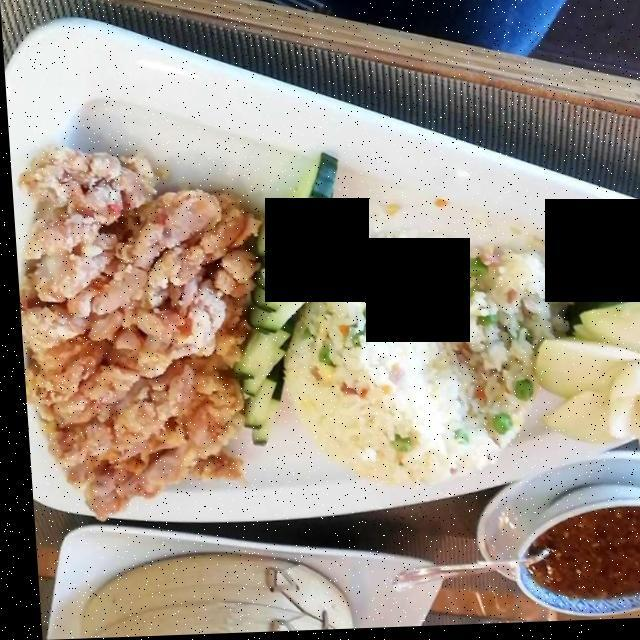breadcrumbs: (31, 130, 217, 478)
chicken: (27, 136, 254, 522)
cucumber: (231, 159, 328, 437)
fried-rice: (299, 213, 555, 484)
mixed-vegetables: (520, 276, 640, 454)
sauce: (525, 510, 640, 606)
